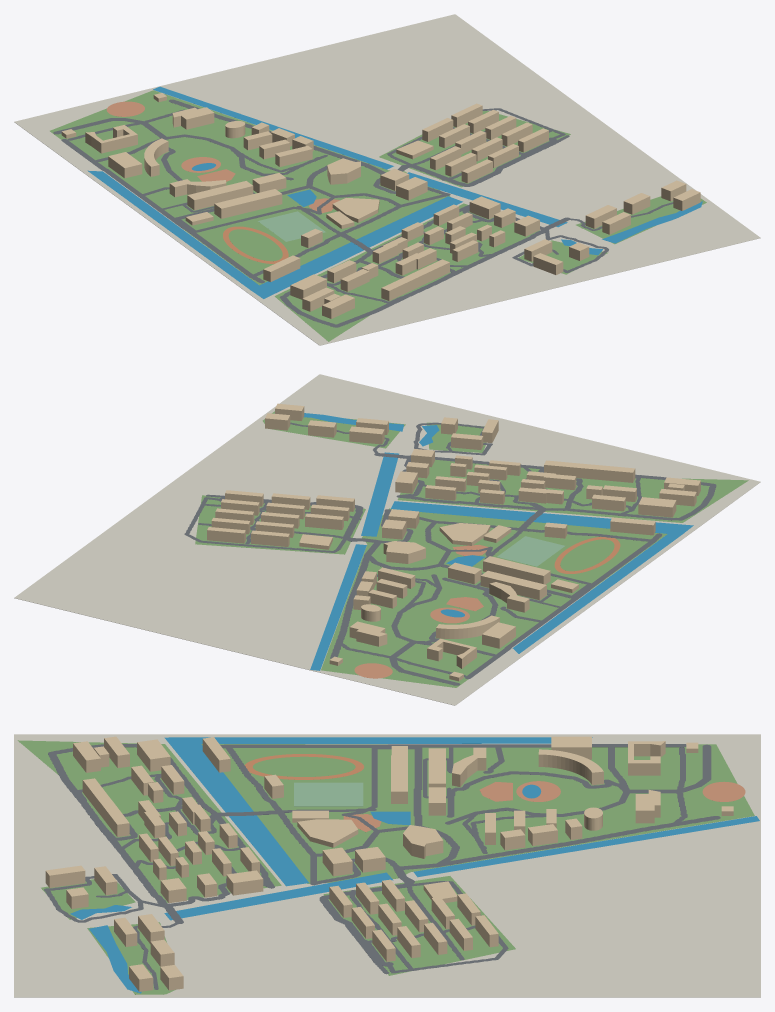
File: campus.glb
3 renders of one model, top to bottom at view 1: azimuth 30°, elevation 25°; view 2: azimuth 150°, elevation 25°; view 3: azimuth 270°, elevation 25°, orthographic. The views are drawn at different scales.
Visible parts, largest first — view 1: Ground, ROAD_001, GRASS_031, WATER_002, GRASS_003, GRASS_022, GRASS_034, GRASS_030, WATER_001, WATER_003, BLDG_015, BLDG_030 (+29 smaller); view 2: Ground, ROAD_001, GRASS_031, WATER_002, GRASS_003, GRASS_022, GRASS_034, WATER_001, BLDG_030, WATER_003, WATER_005, GRASS_021 (+28 smaller); view 3: Ground, ROAD_001, GRASS_031, WATER_002, GRASS_003, GRASS_022, GRASS_034, WATER_001, GRASS_006, WATER_003, WATER_005, LANDMARK_003 (+67 smaller).
Part boxes in pixels (bbox=[...]): Ground: bbox=[14, 14, 760, 345]; ROAD_001: bbox=[53, 99, 673, 327]; GRASS_031: bbox=[148, 115, 340, 217]; WATER_002: bbox=[87, 170, 363, 298]; GRASS_003: bbox=[50, 90, 390, 172]; GRASS_022: bbox=[196, 209, 336, 274]; GRASS_034: bbox=[98, 147, 213, 210]; GRASS_030: bbox=[312, 166, 441, 204]; WATER_001: bbox=[153, 86, 393, 169]; WATER_003: bbox=[356, 196, 462, 247]; BLDG_015: bbox=[214, 189, 282, 218]; BLDG_030: bbox=[381, 259, 449, 300]; Ground: bbox=[14, 374, 760, 705]; ROAD_001: bbox=[184, 422, 716, 685]; GRASS_031: bbox=[343, 560, 570, 655]; WATER_002: bbox=[512, 513, 693, 653]; GRASS_003: bbox=[321, 541, 467, 687]; GRASS_022: bbox=[492, 531, 647, 583]; GRASS_034: bbox=[431, 585, 558, 654]; WATER_001: bbox=[310, 544, 366, 670]; BLDG_030: bbox=[544, 460, 635, 482]; WATER_003: bbox=[391, 501, 534, 521]; WATER_005: bbox=[361, 456, 397, 536]; GRASS_021: bbox=[397, 643, 492, 675]; Ground: bbox=[14, 734, 760, 997]; ROAD_001: bbox=[44, 744, 720, 989]; GRASS_031: bbox=[421, 747, 681, 860]; WATER_002: bbox=[164, 737, 592, 812]; GRASS_003: bbox=[403, 744, 754, 874]; GRASS_022: bbox=[233, 748, 371, 810]; GRASS_034: bbox=[427, 747, 619, 796]; WATER_001: bbox=[413, 816, 759, 877]; GRASS_006: bbox=[392, 885, 502, 968]; WATER_003: bbox=[229, 815, 308, 886]; WATER_005: bbox=[176, 872, 393, 918]; LANDMARK_003: bbox=[294, 782, 363, 806].
Bounding box in the file's own units: 544 × 12.3 × 652.
